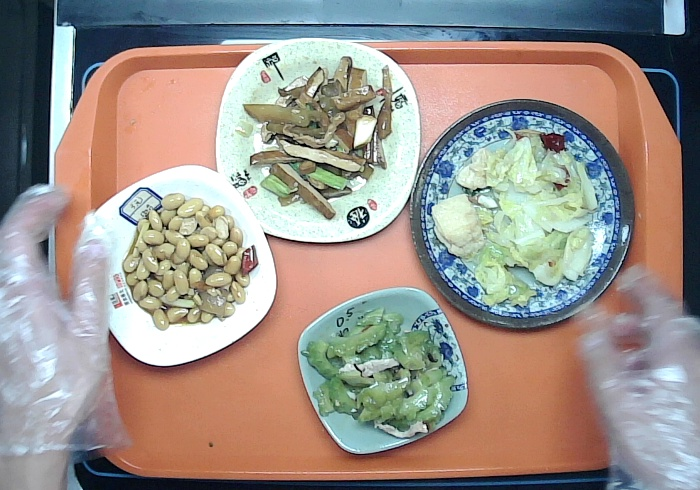NLDX-Bai_Se_Xiao_Fang_Die: (105, 163, 277, 367)
NLDX-Fu_Zi_Fang_Die: (216, 37, 421, 244)
NLDX-Qing_Hua_Xiao_Fang_Die: (295, 288, 467, 455)
NLDX-Qing_Hua_Yuan_Die: (408, 98, 634, 332)
